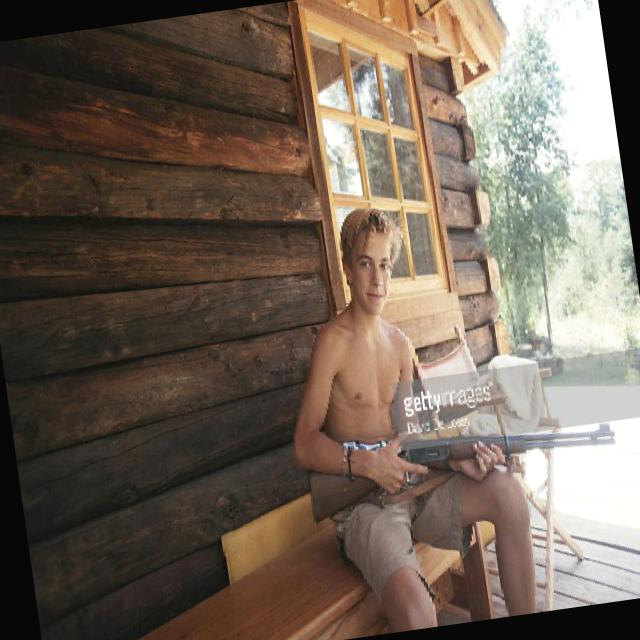long weapon: (280, 397, 630, 529)
